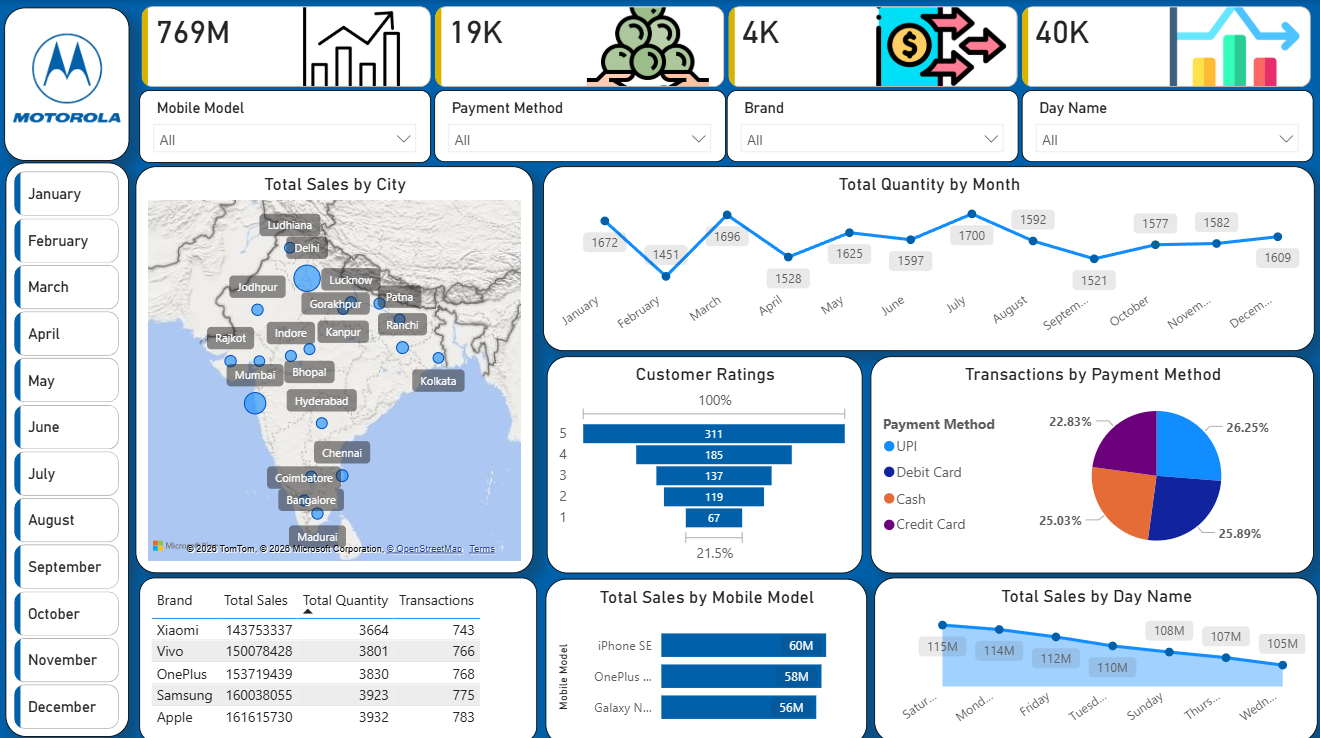

What the dashboard file says about the page in this screenshot:
{"tool":"powerbi","page":{"name":"Page 1","canvas":[1280,720],"ordinal":0},"visuals":[{"type":"shape","box":[5.5,6.9,120.8,148.2],"z":0},{"type":"image","box":[9.6,16.5,113.9,116.6],"z":1000},{"type":"shape","box":[6.9,156.4,119.4,554.4],"z":2000},{"type":"advancedSlicerVisual","fields":{"Values":["Sales_Data.Date.Variation.Date Hierarchy.Month"]},"box":[11,160.5,111.1,548.9],"z":3000},{"type":"cardVisual","fields":{"Data":["Sales_Data.Total Sales","Sales_Data.Total Quantity","Sales_Data.Transactions","Sales_Data.Average"]},"box":[134,5.6,1140.1,83.7],"z":4000},{"type":"map","fields":{"Category":["Sales_Data.City"],"Size":["Sales_Data.Total Sales"]},"box":[132.9,160.8,384.1,393.1],"z":5000},{"type":"lineChart","fields":{"Y":["Sales_Data.Total Quantity"],"Category":["Sales_Data.Date.Variation.Date Hierarchy.Month","Sales_Data.Date.Variation.Date Hierarchy.Day"]},"box":[525.9,160.8,744.8,178.7],"z":6000},{"type":"clusteredBarChart","fields":{"Category":["Sales_Data.Mobile Model"],"Y":["Sales_Data.Total Sales"]},"box":[528.3,558.5,310.1,160.5],"z":7000},{"type":"pieChart","fields":{"Category":["Sales_Data.Payment Method"],"Y":["Sales_Data.Transactions"]},"box":[842.5,344.4,428.1,209.9],"z":8000},{"type":"funnel","title":"Customer Ratings","fields":{"Category":["Sales_Data.Customer Ratings"],"Y":["CountNonNull(Sales_Data.Customer Ratings)"]},"box":[529.7,344.4,304.6,209.9],"z":9000},{"type":"areaChart","fields":{"Category":["Sales_Data.Day Name"],"Y":["Sales_Data.Total Sales"]},"box":[845.3,557.1,428.1,159.2],"z":10000},{"type":"tableEx","fields":{"Values":["Sales_Data.Brand","Sales_Data.Total Sales","Sales_Data.Total Quantity","Sales_Data.Transactions"]},"box":[135.8,557.1,384.2,159.2],"z":11000},{"type":"slicer","fields":{"Values":["Sales_Data.Mobile Model"]},"box":[136.2,87.1,281.4,70.3],"z":12000},{"type":"slicer","fields":{"Values":["Sales_Data.Payment Method"]},"box":[421,87.1,281.4,69.2],"z":13000},{"type":"slicer","fields":{"Values":["Sales_Data.Brand"]},"box":[703.5,87.1,281.4,69.2],"z":14000},{"type":"slicer","fields":{"Values":["Sales_Data.Day Name"]},"box":[988.2,87.1,281.4,69.2],"z":15000}]}

Visuals, with their boxes in screenshot pixels (x1, y1, x2, y2), scaled from the page's 1280x720 canvas onto the 1320x738 screenshot:
shape: (x1=6, y1=7, x2=130, y2=159)
image: (x1=10, y1=17, x2=127, y2=136)
shape: (x1=7, y1=160, x2=130, y2=729)
advancedSlicerVisual - Sales_Data.Date.Variation.Date Hierarchy.Month: (x1=11, y1=165, x2=126, y2=727)
cardVisual - Sales_Data.Total Sales x Sales_Data.Total Quantity: (x1=138, y1=6, x2=1314, y2=92)
map - Sales_Data.City x Sales_Data.Total Sales: (x1=137, y1=165, x2=533, y2=568)
lineChart - Sales_Data.Total Quantity x Sales_Data.Date.Variation.Date Hierarchy.Month: (x1=542, y1=165, x2=1310, y2=348)
clusteredBarChart - Sales_Data.Mobile Model x Sales_Data.Total Sales: (x1=545, y1=572, x2=865, y2=737)
pieChart - Sales_Data.Payment Method x Sales_Data.Transactions: (x1=869, y1=353, x2=1310, y2=568)
"Customer Ratings" funnel: (x1=546, y1=353, x2=860, y2=568)
areaChart - Sales_Data.Day Name x Sales_Data.Total Sales: (x1=872, y1=571, x2=1313, y2=734)
tableEx - Sales_Data.Brand x Sales_Data.Total Sales: (x1=140, y1=571, x2=536, y2=734)
slicer - Sales_Data.Mobile Model: (x1=140, y1=89, x2=431, y2=161)
slicer - Sales_Data.Payment Method: (x1=434, y1=89, x2=724, y2=160)
slicer - Sales_Data.Brand: (x1=725, y1=89, x2=1016, y2=160)
slicer - Sales_Data.Day Name: (x1=1019, y1=89, x2=1309, y2=160)
